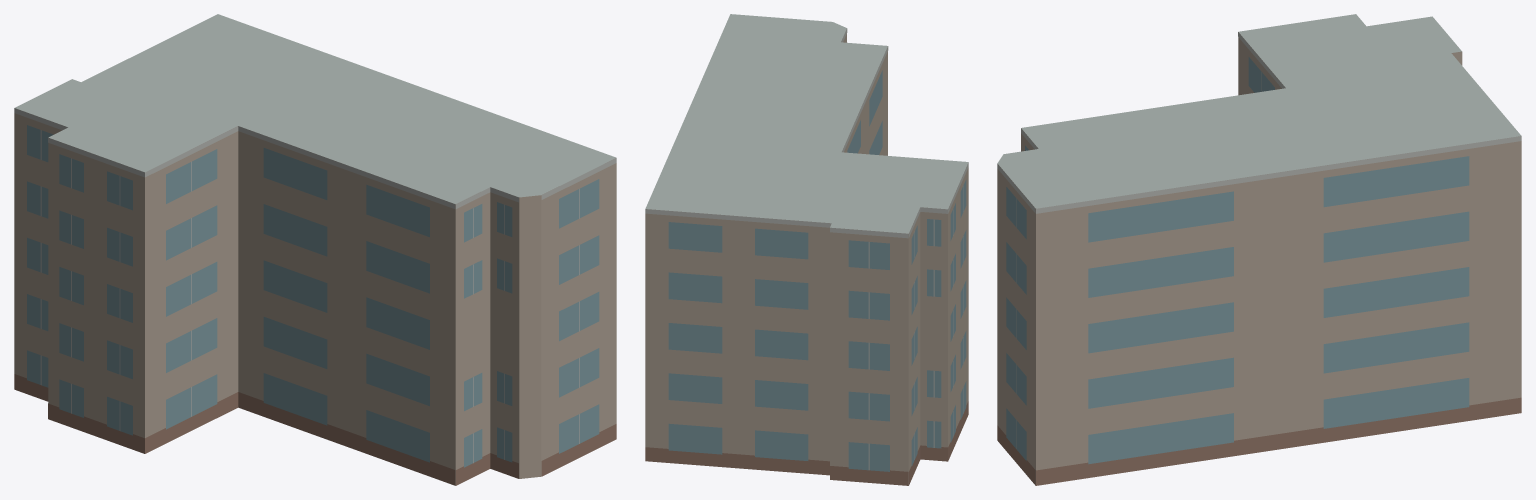
The model's file is survey-upis-33019813.glb.
3 views of the same model, side by side, from view 1: azimuth 30°, elevation 25°; view 2: azimuth 150°, elevation 25°; view 3: azimuth 270°, elevation 25° (orthographic). The views are drawn at different scales.
Visible parts, largest first — view 1: survey-upis-33019813.tmp; view 2: survey-upis-33019813.tmp; view 3: survey-upis-33019813.tmp.
Boxes of the visible parts, x1,y1,x2,y2 form: survey-upis-33019813.tmp: (14,14,616,485); survey-upis-33019813.tmp: (645,14,968,485); survey-upis-33019813.tmp: (997,14,1521,485).
Size of the model in its own units: 20.14 by 13.35 by 22.9.
